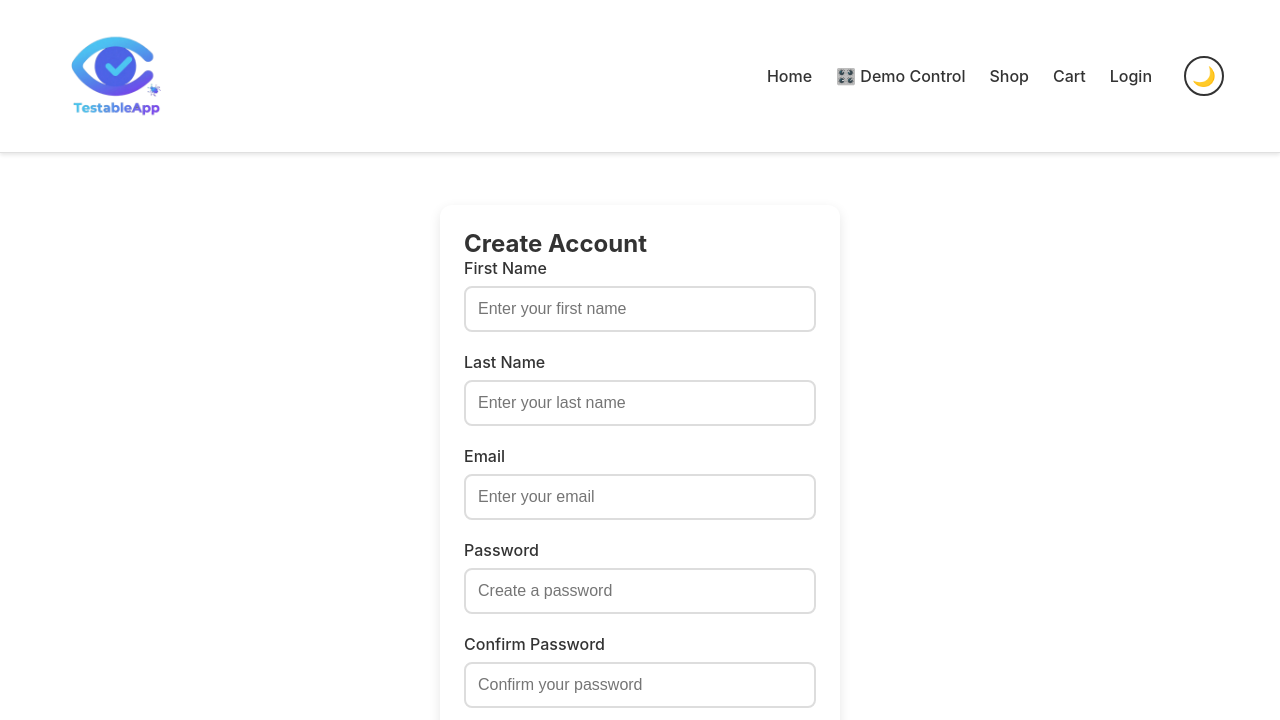
it: Authentication Flow › Register Page › should validate password confirmation match
This screenshot has width=1280, height=720.
In the field with test id "firstName-input": x=640, y=309 [464,286,816,332], type "John"
In the field with test id "lastName-input": x=640, y=403 [464,380,816,426], type "Doe"
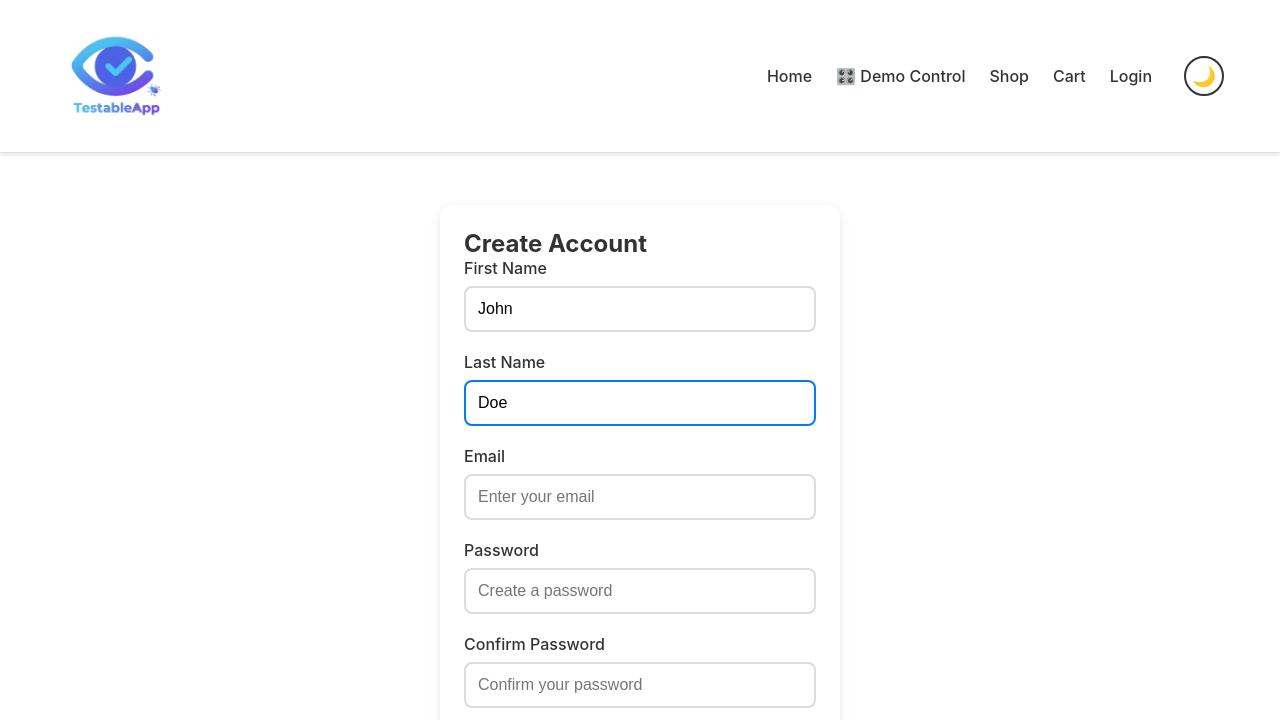
In the field with test id "email-input": x=640, y=497 [464,474,816,520], type "john@example.com"
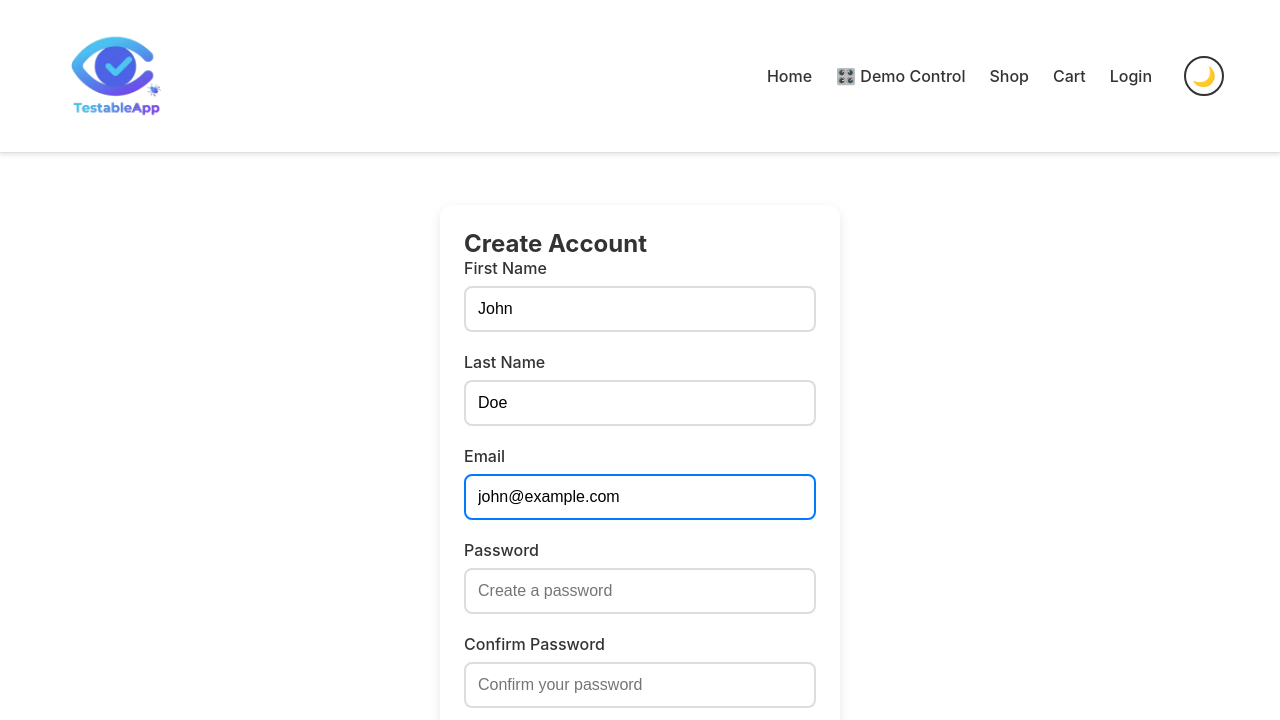
In the password field with test id "password-input": x=640, y=591 [464,568,816,614], type "Password123"
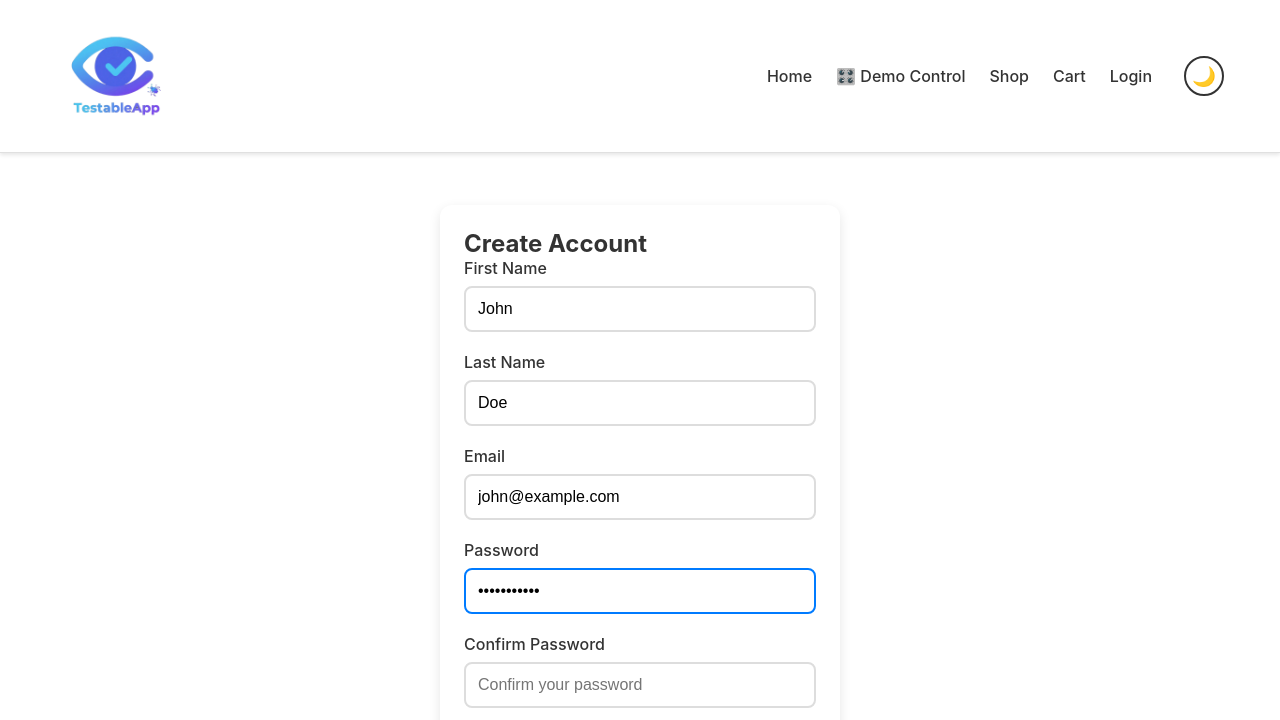
In the password field with test id "confirmPassword-input": x=640, y=685 [464,662,816,708], type "Different123"
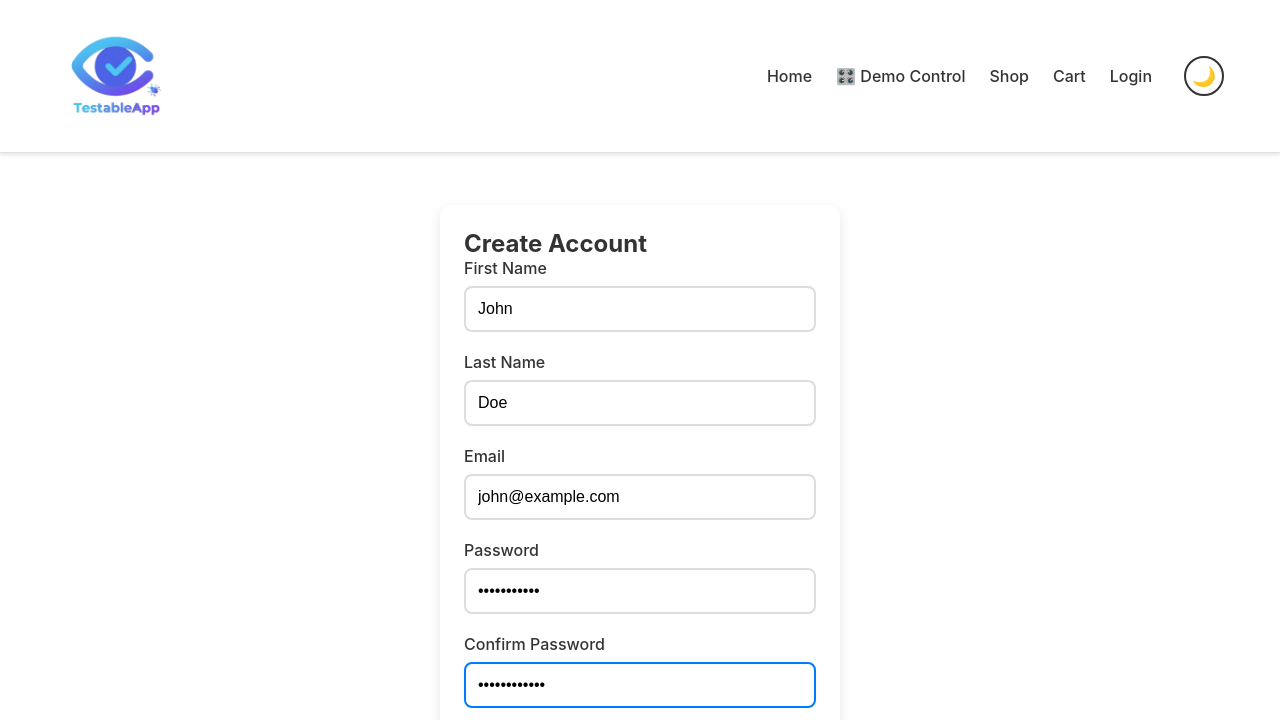
Scroll
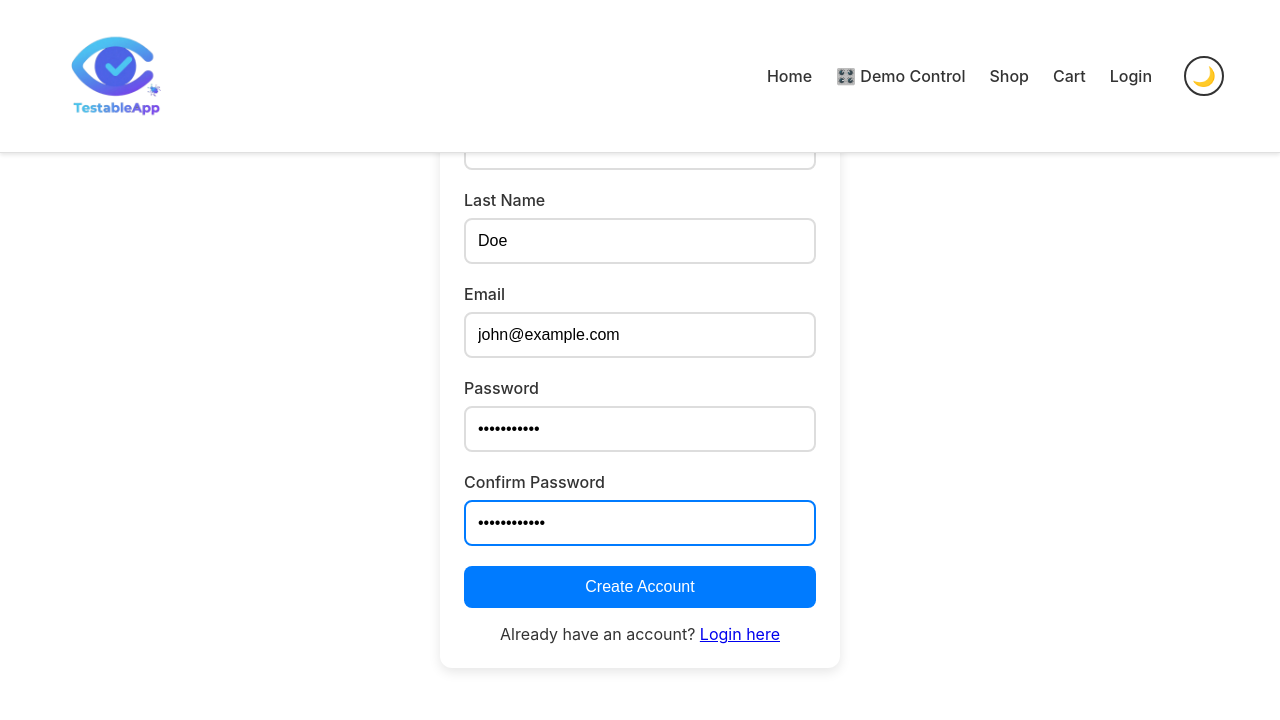
Click the button with test id "register-submit": x=640, y=587 [464,566,816,608]
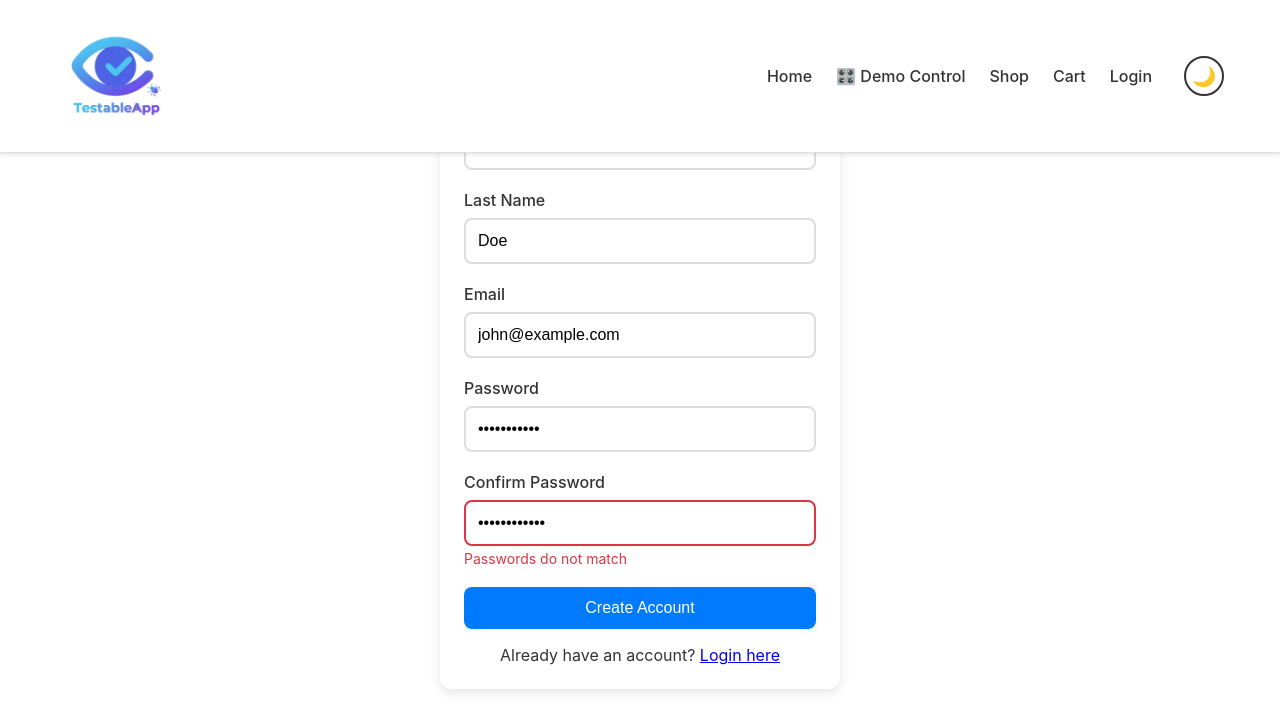
Check: the text with test id "confirmPassword-error" reads "Passwords do not match", box [464,550,627,567]
